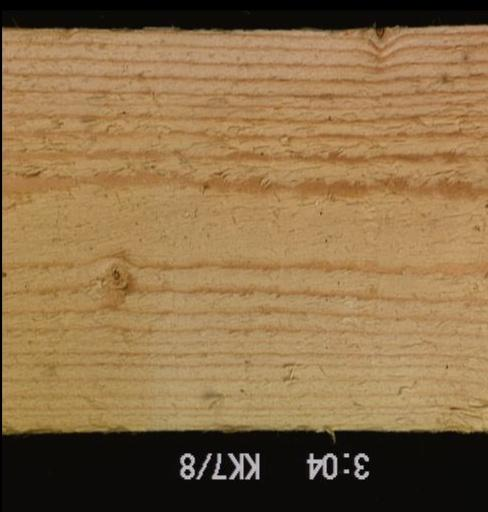edge_knot: (361, 22, 392, 55)
small_knot: (81, 251, 137, 312)
